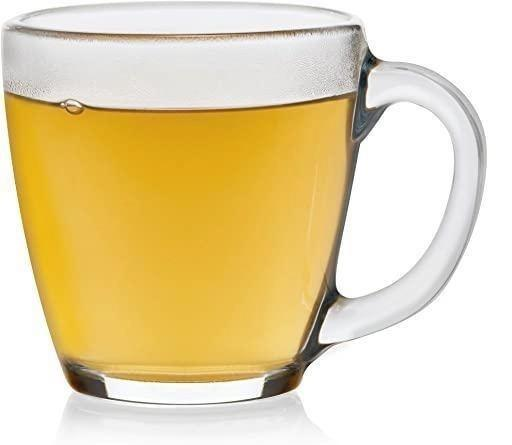glass-mug: (2, 0, 492, 409)
